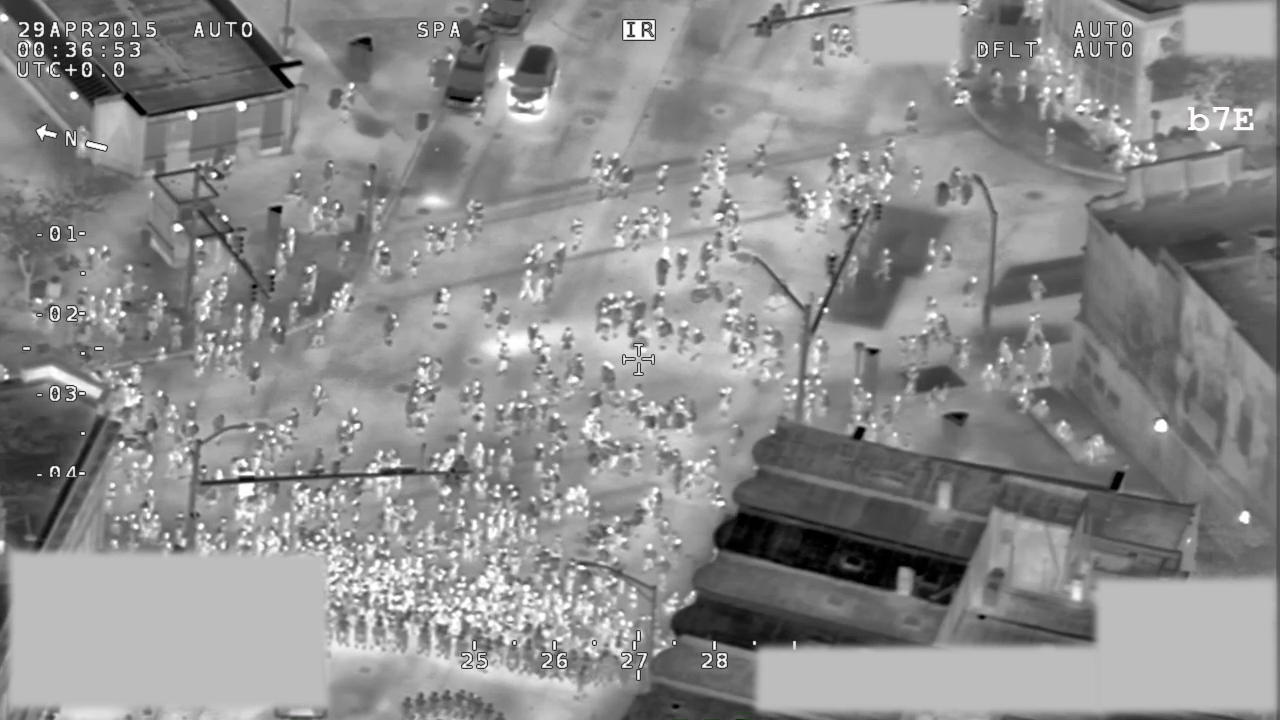vehicle: (434, 18, 503, 120), (500, 40, 566, 120)
